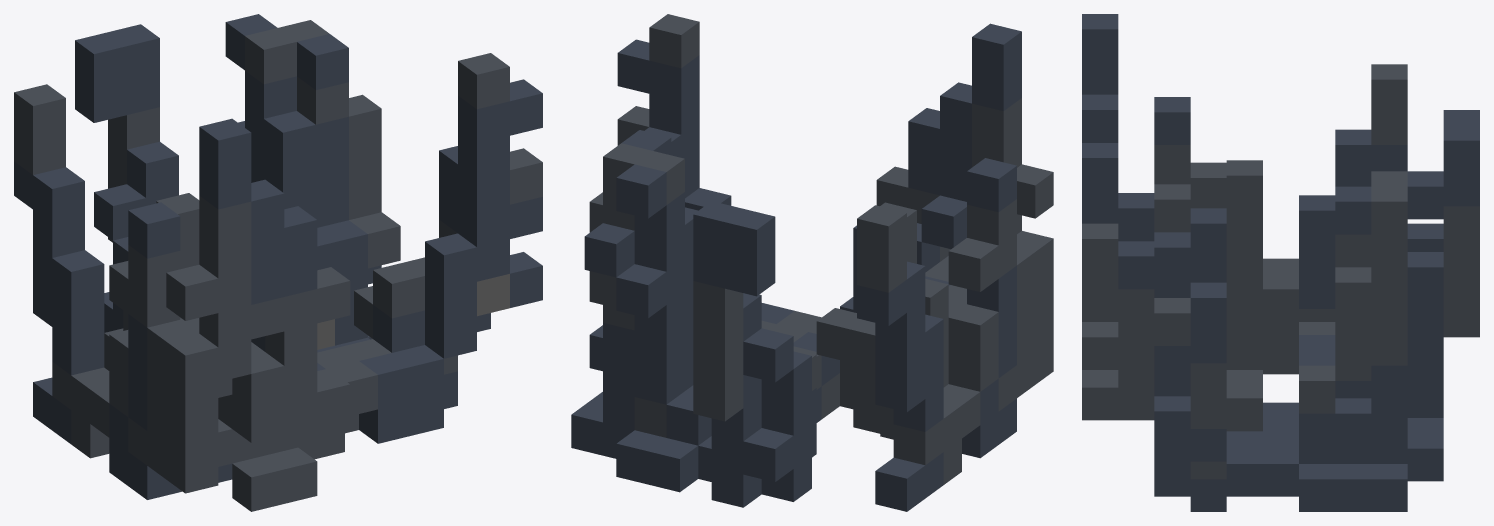
The model's file is lvl2-1.obj.
The picture shows the model from 3 angles, left to right: view 1: azimuth 30°, elevation 25°; view 2: azimuth 150°, elevation 25°; view 3: azimuth 270°, elevation 25°; orthographic projection. The views are drawn at different scales.
Size of the model in its own units: 1.2 by 1.1 by 1.1.
1 material, 1 textured.
